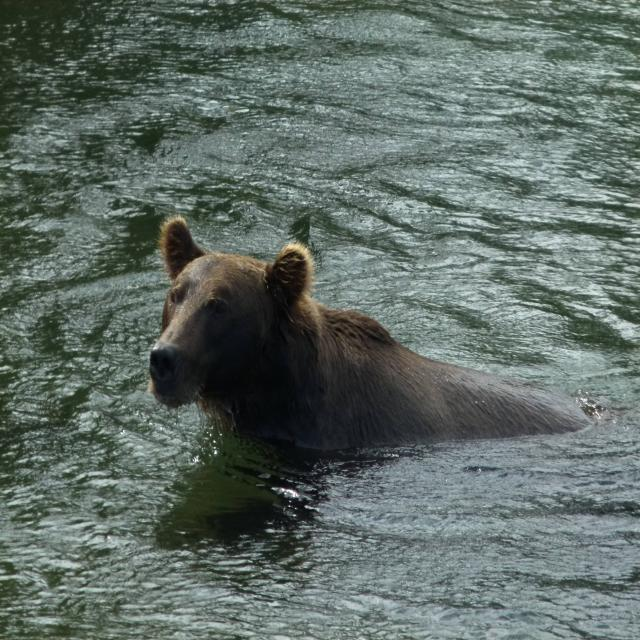bear face: (152, 219, 576, 437)
